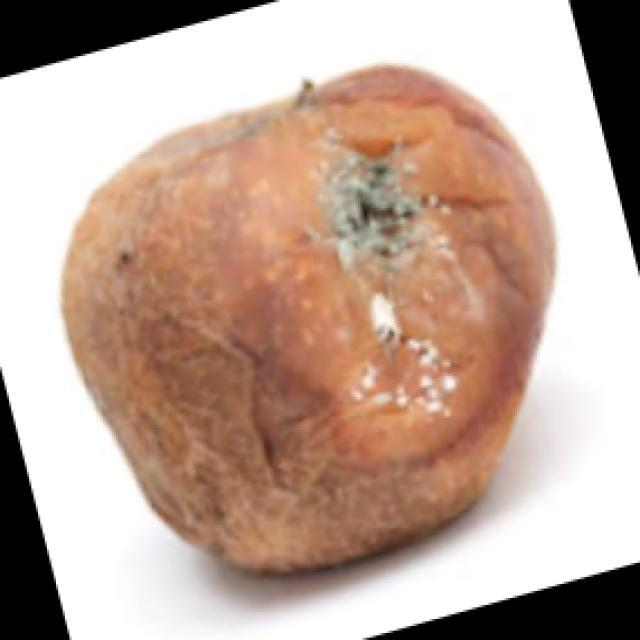Rotten: (64, 63, 544, 572)
